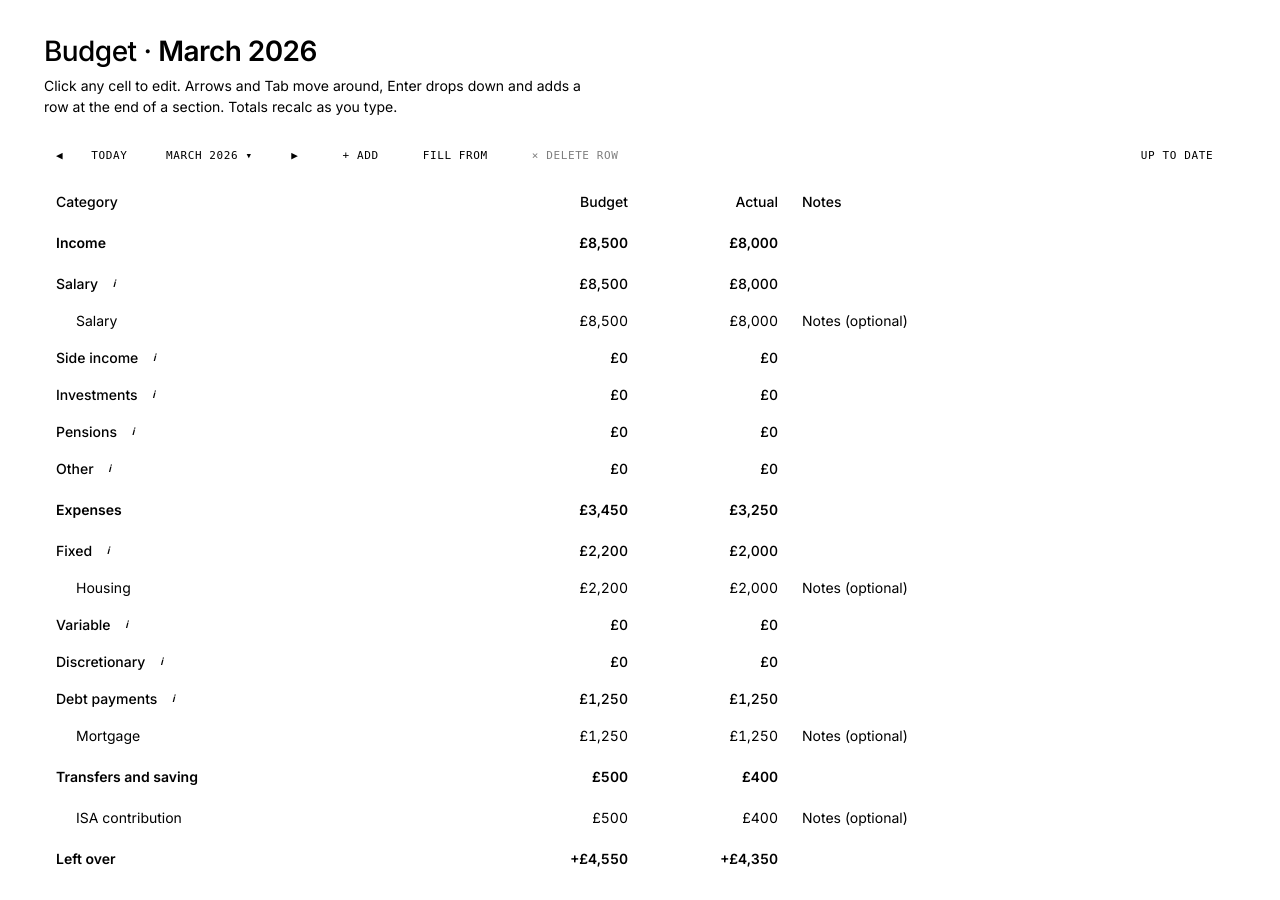
Test: BudgetSheet — the Add drawer's account picker › the repayment empty state says what the account would be for
Click the button "+ Add".
click(361, 156)  # box top-left (331, 141), bottom-right (391, 171)
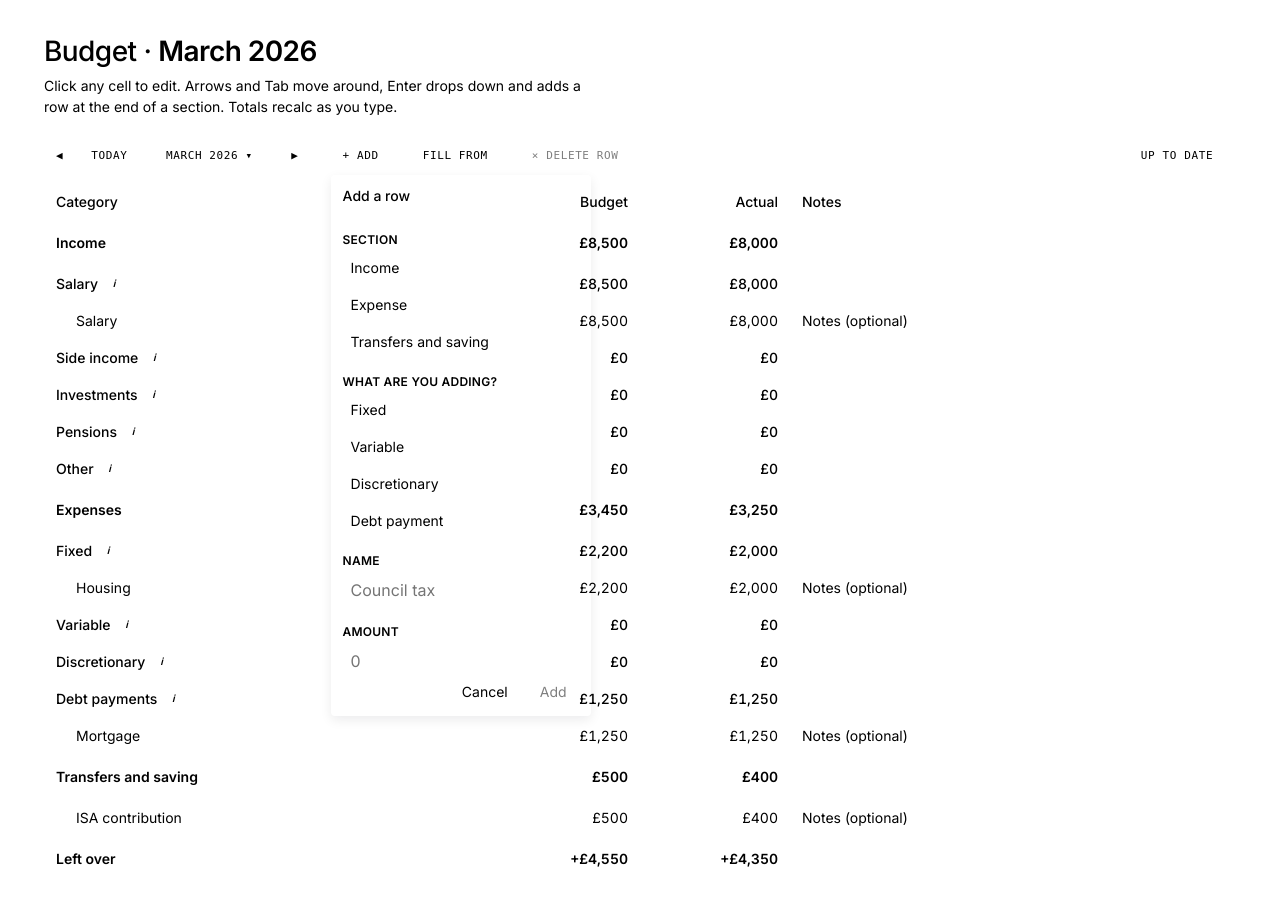
Click the button "Debt payment".
click(461, 520)  # box top-left (343, 504), bottom-right (579, 537)
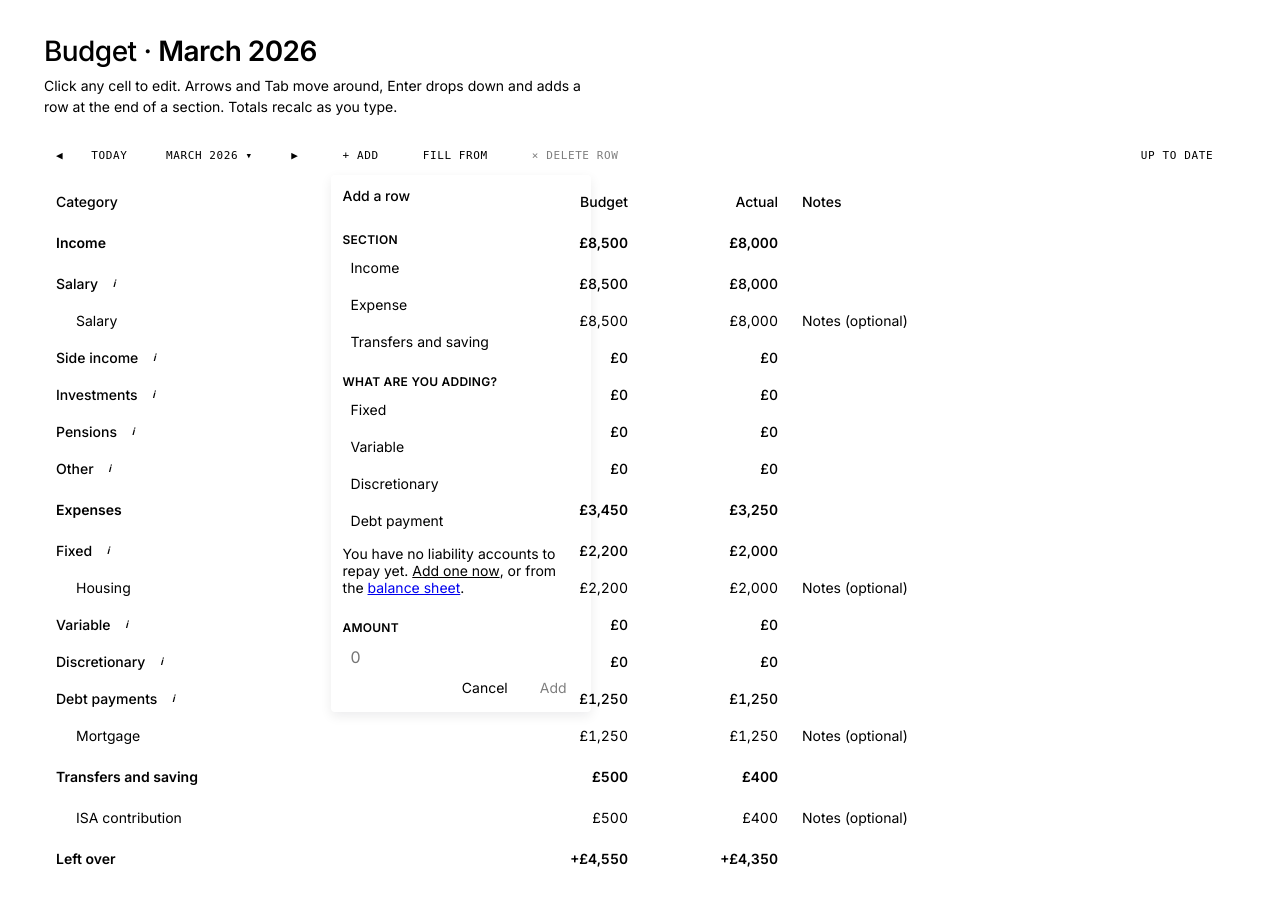
Expected: the text "no liability accounts to repay yet" is shown, top-left (343, 537), bottom-right (579, 604)
